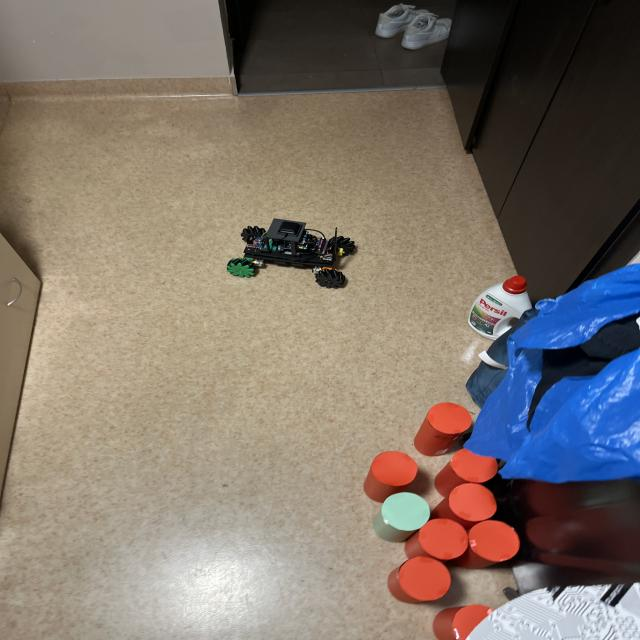robot: (226, 219, 356, 288)
